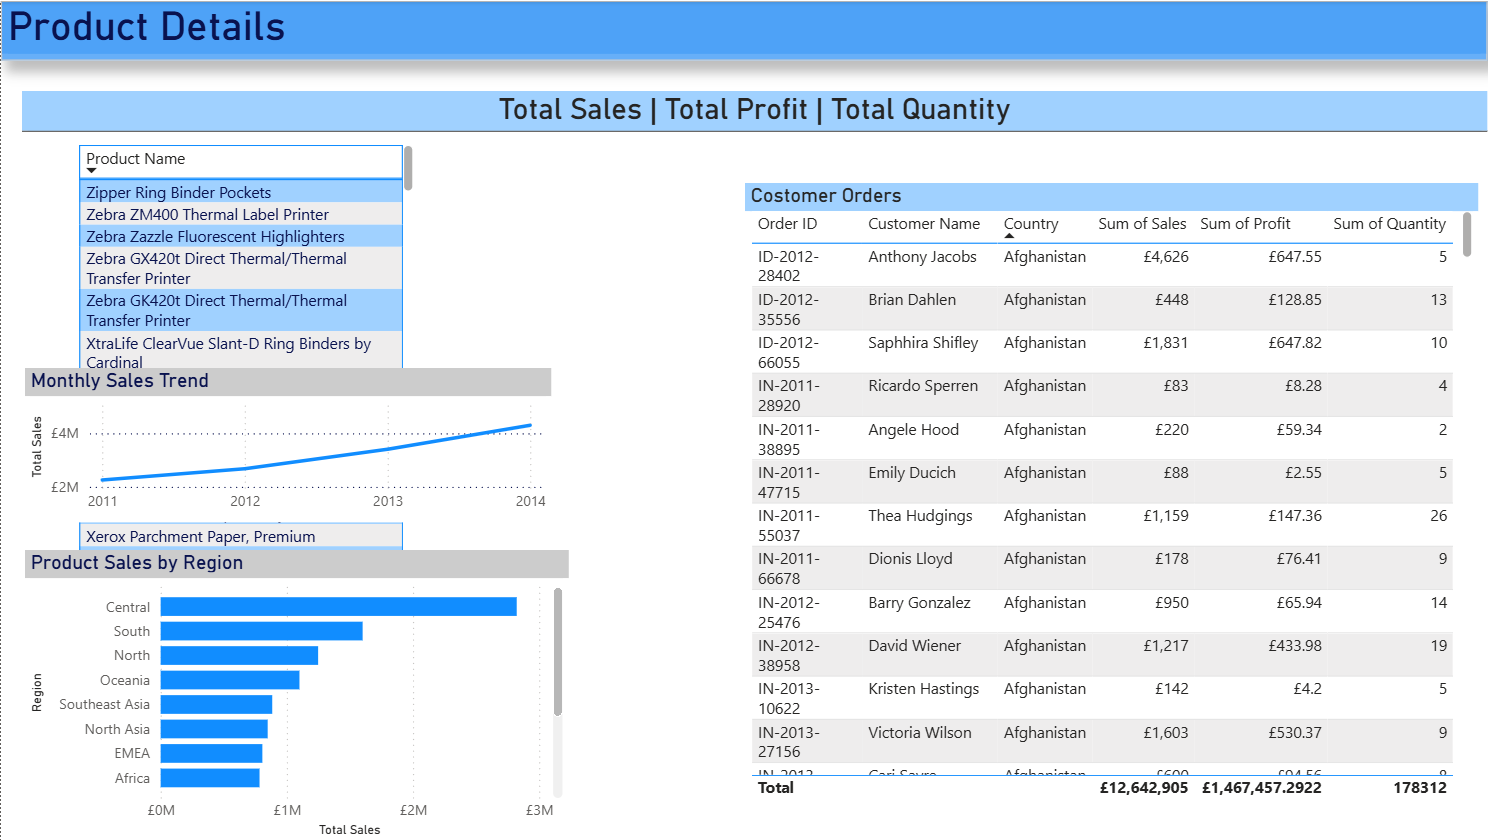

The dashboard page shown, as its layout file describes it:
{"tool":"powerbi","page":{"name":"Product Details","canvas":[1280,720],"ordinal":1},"visuals":[{"type":"tableEx","fields":{"Values":["Task_1_Dataset_Superstore.Product Name"]},"box":[60.9,118.4,296.6,400.4],"z":0},{"type":"textbox","title":"Product Details","box":[0,0,1271,50.7],"z":1000},{"type":"kpi","title":"Total Sales  |  Total Profit  |  Total Quantity","fields":{"Indicator":["Task_1_Dataset_Superstore.Total Sales"],"Goal":["Task_1_Dataset_Superstore.Total Profit","Task_1_Dataset_Superstore.Total Quantity"]},"box":[18,76.7,1252.9,41.7],"z":2000},{"type":"lineChart","title":"Monthly Sales Trend","fields":{"Category":["Task_1_Dataset_Superstore.Order Date.Variation.Date Hierarchy.Year","Task_1_Dataset_Superstore.Order Date.Variation.Date Hierarchy.Quarter","Task_1_Dataset_Superstore.Order Date.Variation.Date Hierarchy.Month","Task_1_Dataset_Superstore.Order Date.Variation.Date Hierarchy.Day"],"Y":["Task_1_Dataset_Superstore.Total Sales"]},"box":[20.3,313.5,450,131.9],"z":3000},{"type":"clusteredBarChart","title":"Product Sales by Region","fields":{"Category":["Task_1_Dataset_Superstore.Region"],"Y":["Task_1_Dataset_Superstore.Total Sales"]},"box":[20.3,469.1,464.6,250.4],"z":4000},{"type":"tableEx","title":"Costomer Orders","fields":{"Values":["Task_1_Dataset_Superstore.Order ID","Task_1_Dataset_Superstore.Customer Name","Task_1_Dataset_Superstore.Country","Sum(Task_1_Dataset_Superstore.Sales)","Sum(Task_1_Dataset_Superstore.Profit)","Sum(Task_1_Dataset_Superstore.Quantity)"]},"box":[636,156,626.9,531.5],"z":5000}]}

Visuals, with their boxes in screenshot pixels (x1, y1, x2, y2), scaled from the page's 1280x720 canvas onto the 1488x840 screenshot:
tableEx - Task_1_Dataset_Superstore.Product Name: [71,138,416,605]
"Product Details" textbox: [0,0,1478,59]
"Total Sales  |  Total Profit  |  Total Quantity" kpi: [21,89,1477,138]
"Monthly Sales Trend" lineChart: [24,366,547,520]
"Product Sales by Region" clusteredBarChart: [24,547,564,839]
"Costomer Orders" tableEx: [739,182,1468,802]
